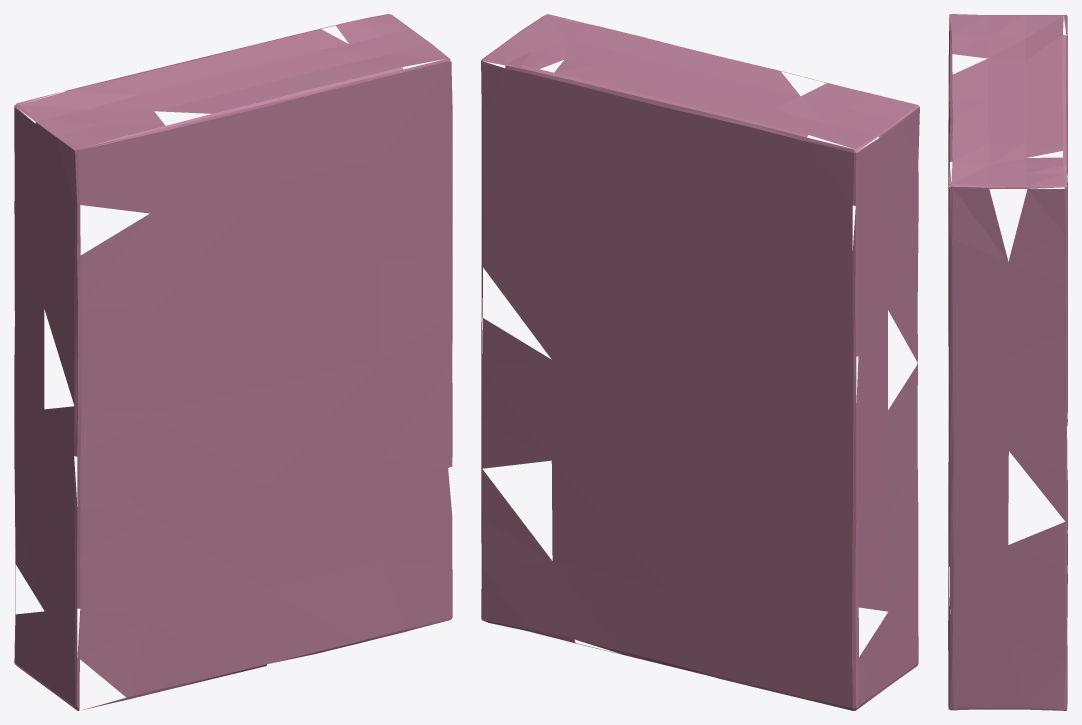
The model's file is pack_paper_office_light_green_a02.glb.
3 views of the same model, side by side, from view 1: azimuth 30°, elevation 25°; view 2: azimuth 150°, elevation 25°; view 3: azimuth 270°, elevation 25° (orthographic). The views are drawn at different scales.
Visible parts, largest first — view 1: geometry_0; view 2: geometry_0; view 3: geometry_0.
Boxes of the visible parts, bbox=[...] form: geometry_0: bbox=[14, 14, 452, 710]; geometry_0: bbox=[481, 14, 919, 710]; geometry_0: bbox=[948, 14, 1067, 710].
Bounding box in the file's own units: 0.3361 × 0.48 × 0.0983.
